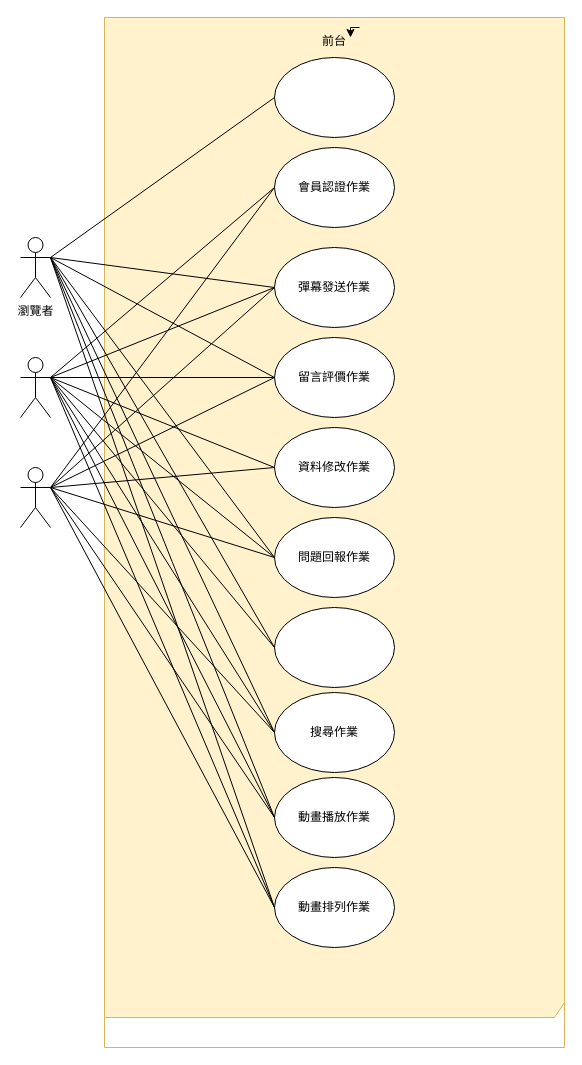
Image size: 582x1065. Some labels were removed from this diagram. Here are the shapes that lost their labels. From the top down, the centre of each, then its label:
pixel 334 97: 註冊作業
pixel 35 387: 勇者
pixel 35 497: 會員
pixel 334 647: 廣告置入作業
